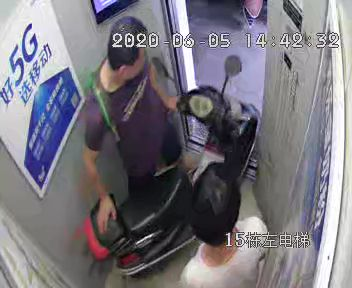Electric-bicycle: (75, 86, 260, 275)
